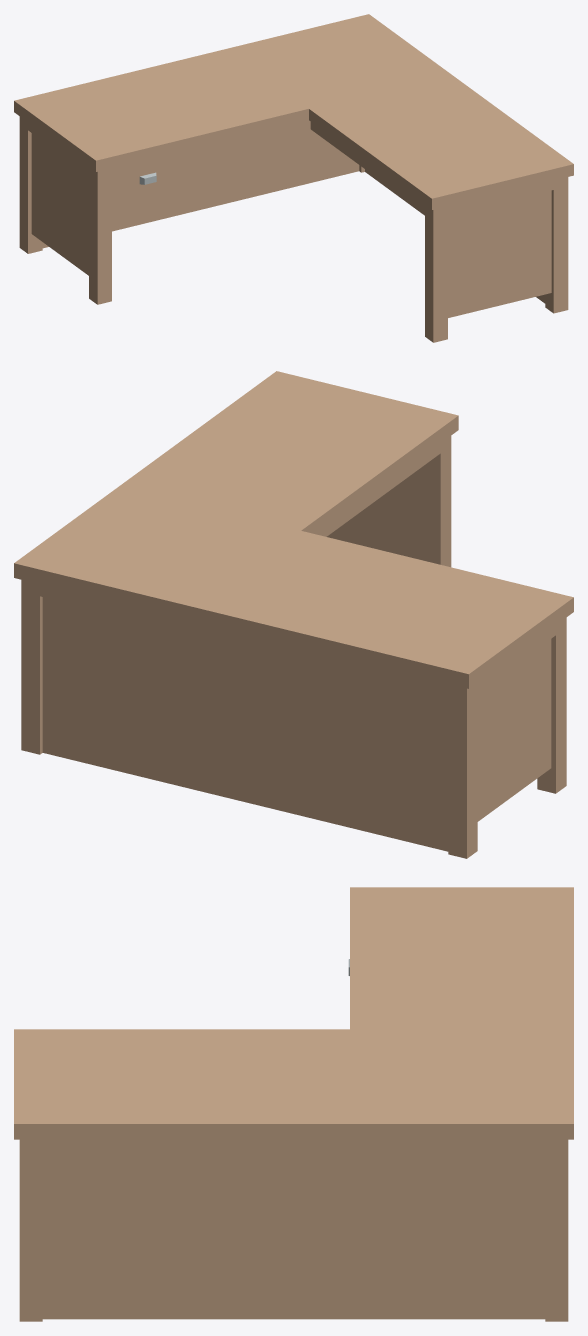
The model's file is deskCorner.glb.
The picture shows the model from 3 angles, top to bottom: view 1: azimuth 30°, elevation 25°; view 2: azimuth 150°, elevation 25°; view 3: azimuth 270°, elevation 25°; orthographic projection. The views are drawn at different scales.
Parts seen in each view (by area): view 1: deskCorner; view 2: deskCorner; view 3: deskCorner.
Part boxes in pixels (bbox=[...]): deskCorner: bbox=[14, 14, 573, 342]; deskCorner: bbox=[14, 371, 573, 858]; deskCorner: bbox=[14, 887, 573, 1321].
Bounding box in the file's own units: 0.9745 × 0.3844 × 0.9745.
